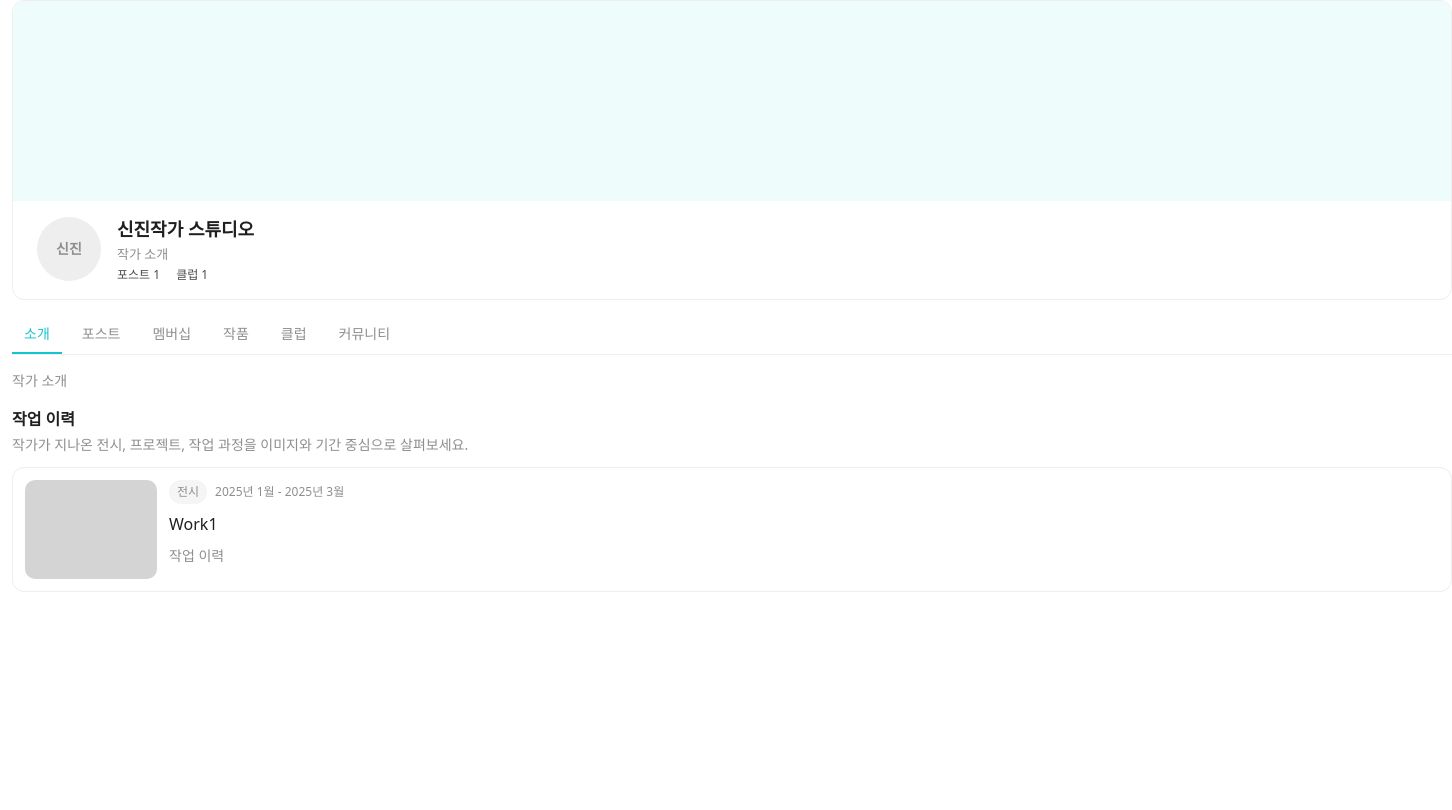
Test: StudioTabs › 비권한 사용자에게 커뮤니티 격벽 안내를 표시한다 (SPEC-007 FR-002, AC-001)
Click the tab "커뮤니티". click: (364, 335)
box: [327,316,402,354]
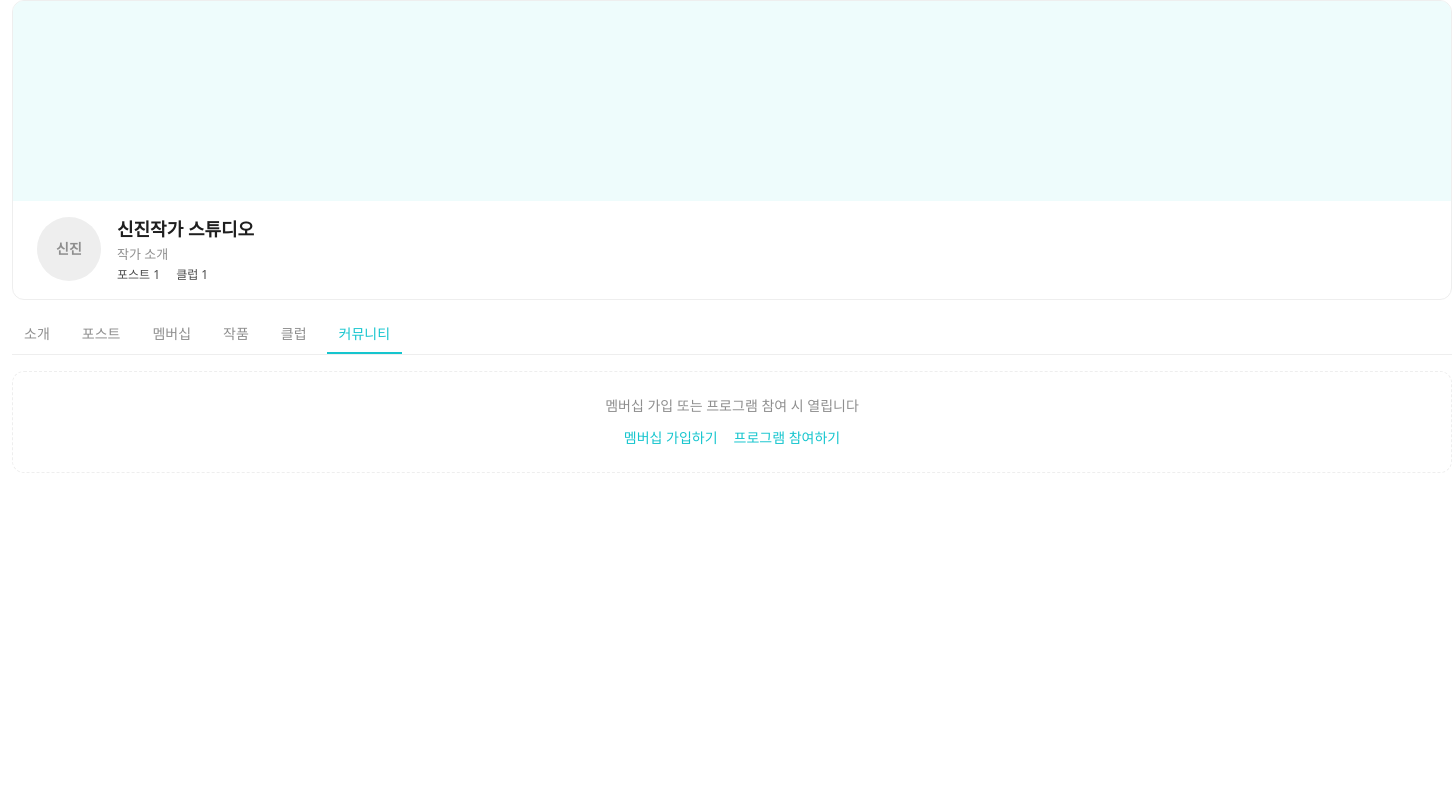
Expected: the text "멤버십 가입 또는 프로그램 참여 시 열립니다" is shown, [605,396,859,415]
